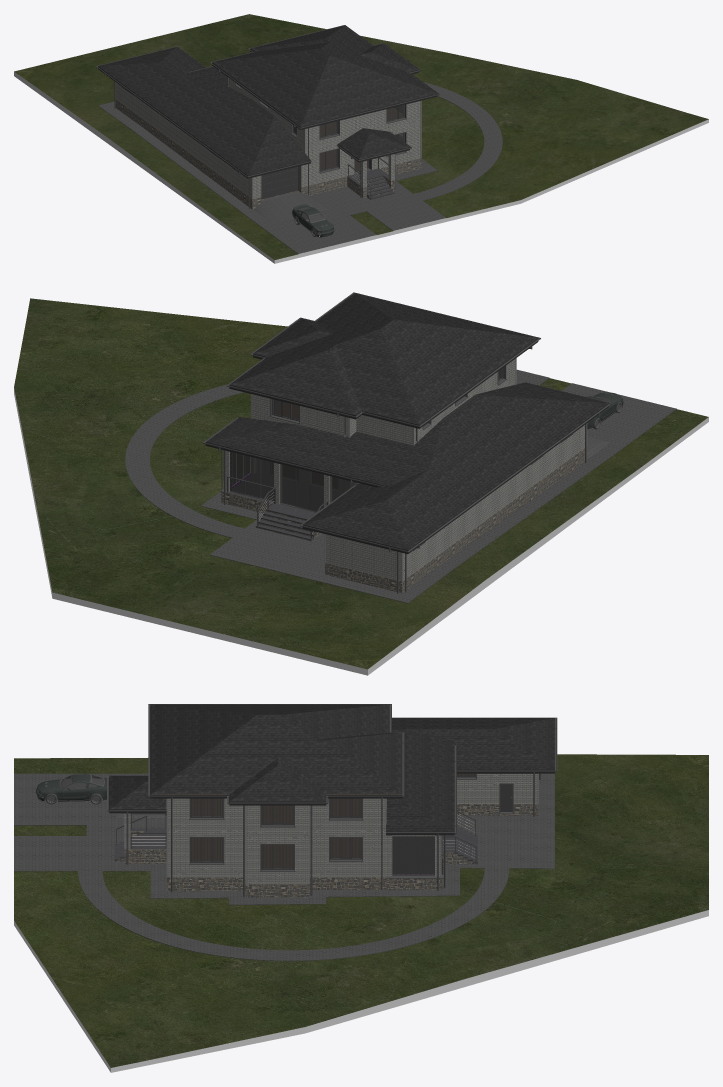
The model's file is house-6.glb.
3 renders of one model, top to bottom at view 1: azimuth 30°, elevation 25°; view 2: azimuth 150°, elevation 25°; view 3: azimuth 270°, elevation 25°, orthographic. The views are drawn at different scales.
Visible parts, largest first — view 1: object 14, object 23, object 20, object 21, ESRGO_ESRGO_0, object 8, PEN_MATERIAL2_PEN_MATERIAL2_0, object 28, object 2, object 30, object 27, object 7 (+2 smaller); view 2: object 14, object 23, object 20, object 21, ESRGO_ESRGO_0, object 8, object 30, PEN_MATERIAL2_PEN_MATERIAL2_0, object 7, object 28, object 27; view 3: object 14, object 23, object 20, object 21, object 30, object 8, ESRGO_ESRGO_0, PEN_MATERIAL2_PEN_MATERIAL2_0, object 6, object 7, object 2, object 27 (+2 smaller).
Boxes of the visible parts, x1,y1,x2,y2 form: object 14: (14,14,708,259); object 23: (98,25,437,175); object 20: (98,82,502,253); object 21: (115,79,420,198); ESRGO_ESRGO_0: (14,72,708,263); object 8: (115,99,421,209); PEN_MATERIAL2_PEN_MATERIAL2_0: (96,25,439,208); object 28: (98,49,437,178); object 2: (237,84,404,199); object 30: (293,105,403,232); object 27: (122,82,406,174); object 7: (347,168,394,199); object 14: (14,298,708,669); object 23: (206,293,608,549); object 20: (125,369,676,603); object 21: (225,359,584,580); ESRGO_ESRGO_0: (14,388,708,675); object 8: (221,448,584,593); object 30: (230,368,606,511); PEN_MATERIAL2_PEN_MATERIAL2_0: (203,292,611,593); object 7: (228,472,342,540); object 28: (205,338,608,553); object 27: (220,366,573,551); object 14: (14,754,708,1067); object 23: (109,704,554,831); object 20: (14,773,554,961); object 21: (124,773,537,884); object 30: (40,773,475,874); object 8: (115,804,538,897); ESRGO_ESRGO_0: (14,910,708,1072); PEN_MATERIAL2_PEN_MATERIAL2_0: (107,704,557,896); object 6: (151,774,474,867); object 7: (114,825,477,873); object 2: (190,773,512,875); object 27: (166,773,513,878).
Bounding box in the file's own units: 44.7 × 9.65 × 42.12.
Materials: 30 (12 with a texture image).
